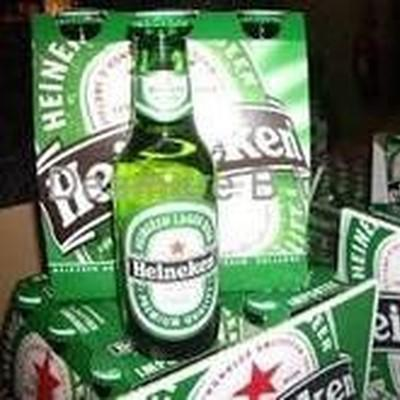beer: (113, 11, 225, 354)
